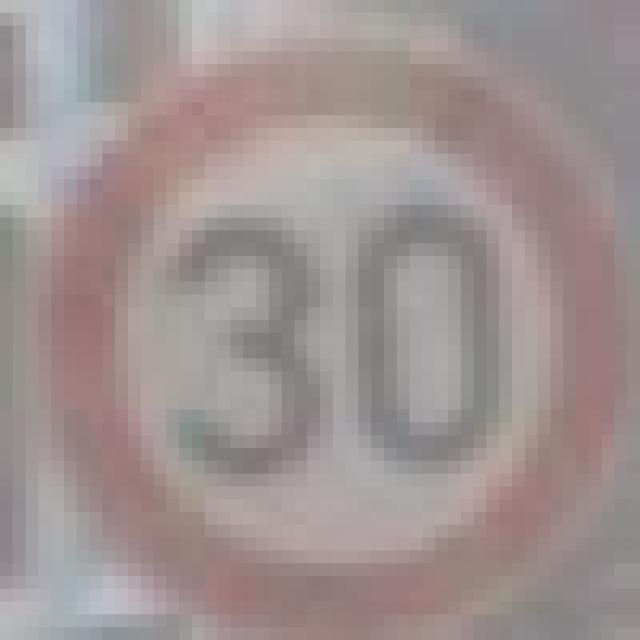SPEED_LIMIT_30: (26, 26, 614, 602)
